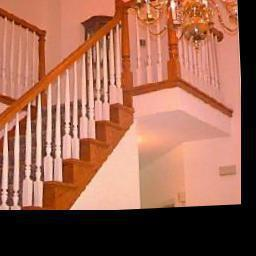Escaleras: (0, 11, 137, 212)
